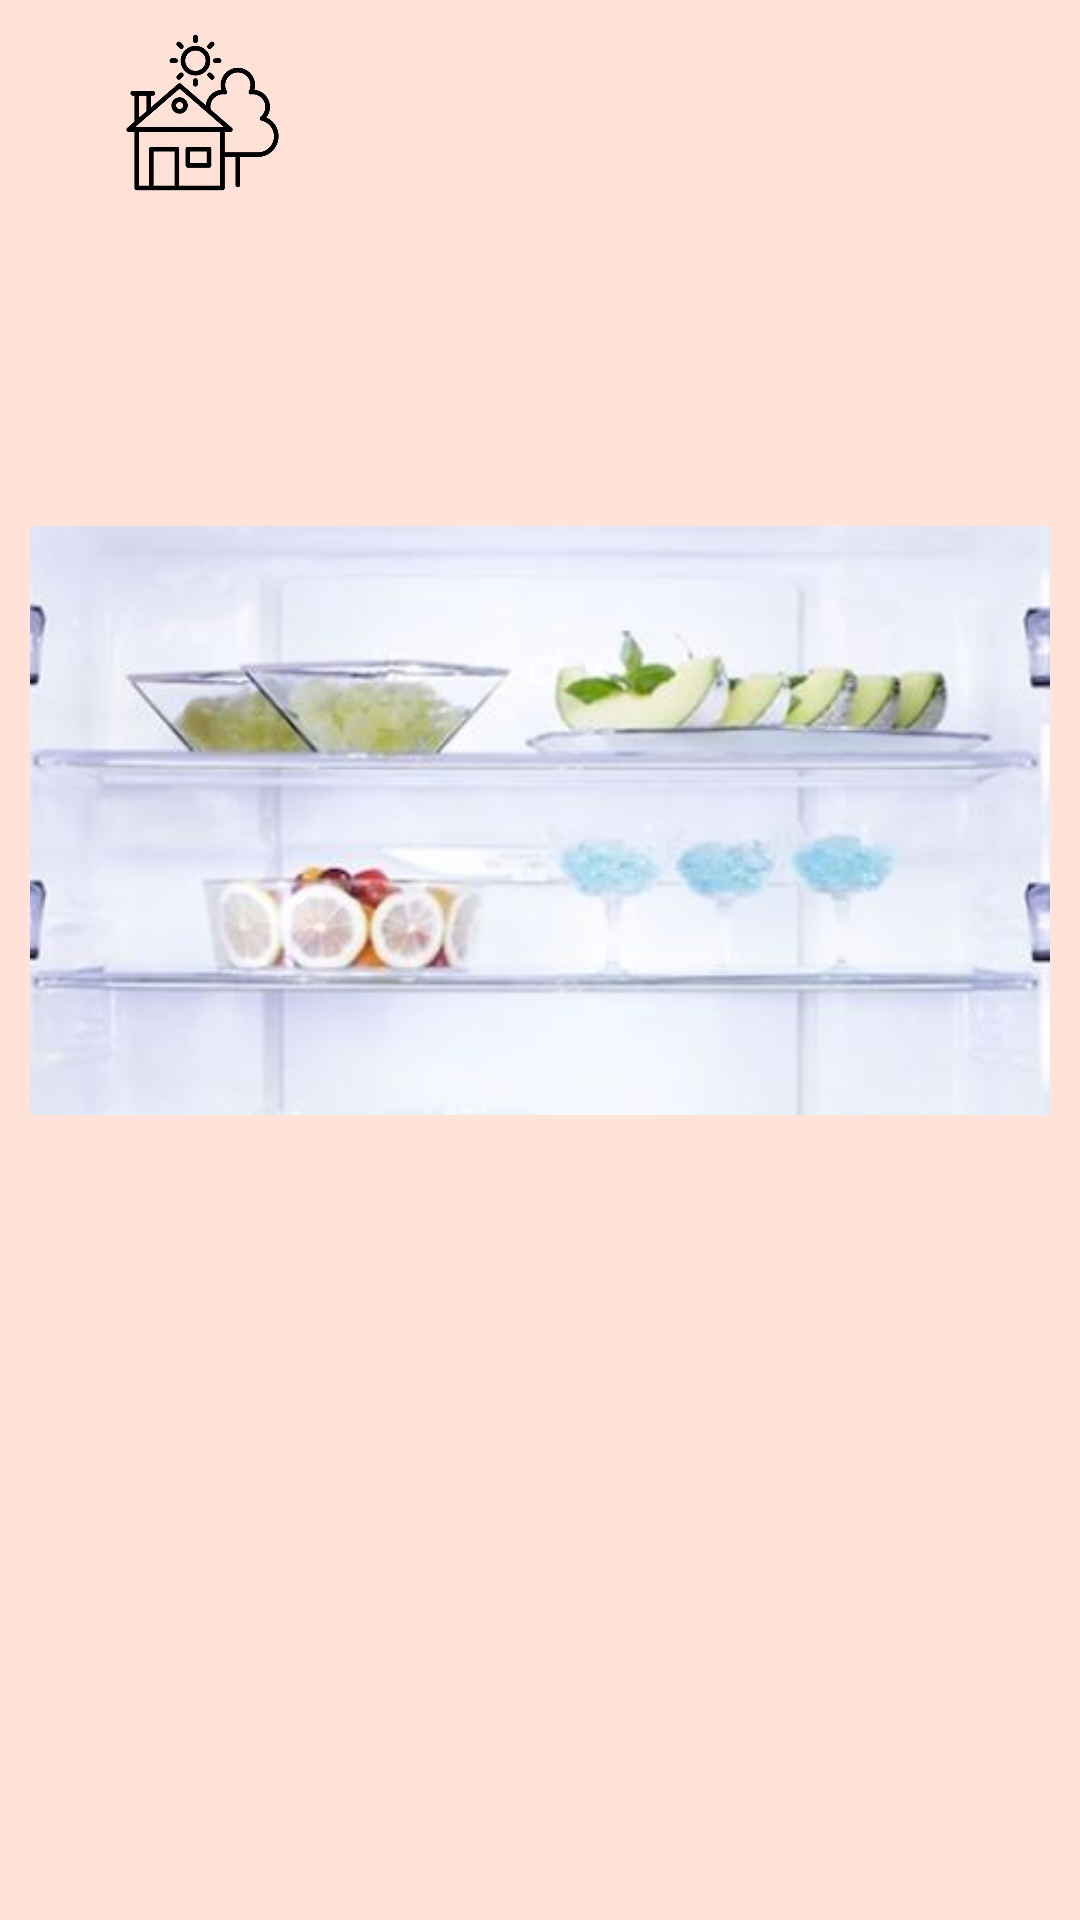

Screen size 1080px×1920px. Icon name, then its center in pixels as [x,y]:
house: [202,112]
